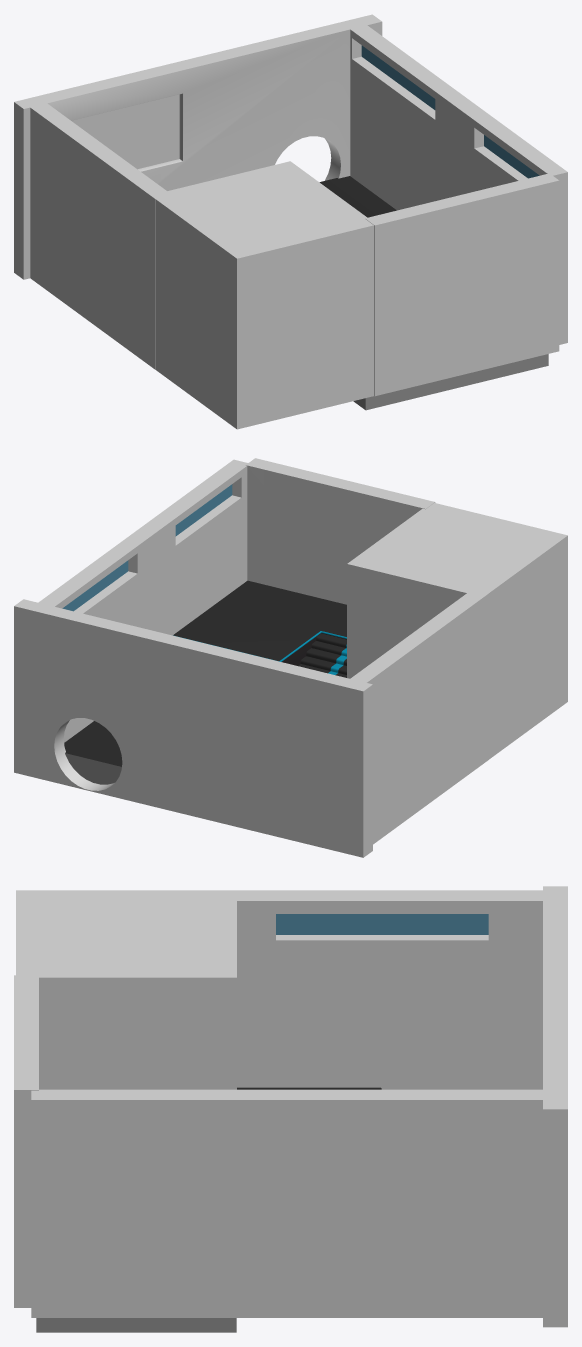
Rendered from Floor01.FBX.
3 views of the same model, one above another, from view 1: azimuth 30°, elevation 25°; view 2: azimuth 150°, elevation 25°; view 3: azimuth 270°, elevation 25° (orthographic). The views are drawn at different scales.
Parts seen in each view (by area): view 1: Walls, Floor; view 2: Walls, Floor, Stairs; view 3: Walls, Floor.
Part boxes in pixels (<box>): Walls: <box>14,14,567,429</box>; Floor: <box>319,176,548,410</box>; Walls: <box>14,458,567,857</box>; Floor: <box>64,580,346,784</box>; Stairs: <box>298,633,346,677</box>; Walls: <box>14,886,567,1327</box>; Floor: <box>36,1087,381,1332</box>.
Bounding box in the file's own units: 1538 × 784 × 1614.
